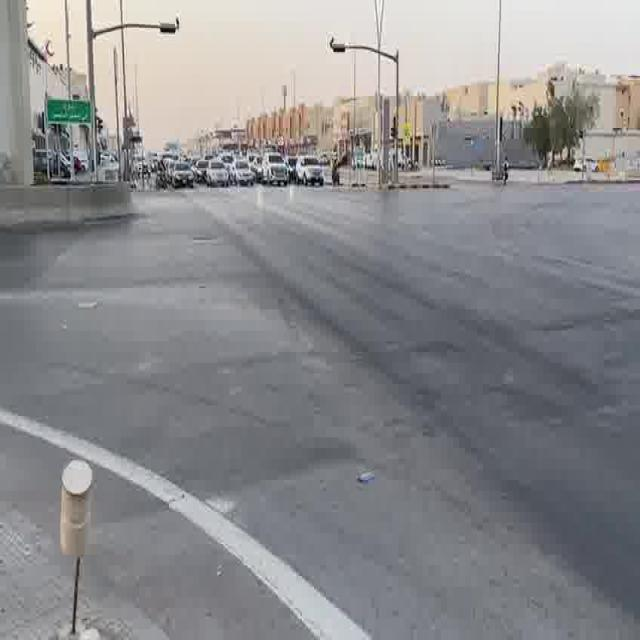bus: (252, 150, 289, 185), (295, 155, 328, 186), (204, 162, 232, 188), (171, 161, 197, 188), (233, 158, 256, 187)
car: (179, 209, 640, 640), (252, 150, 289, 185), (295, 155, 328, 186), (204, 162, 232, 188), (171, 161, 197, 188), (233, 158, 256, 187)
lanes: (179, 209, 640, 640), (226, 209, 639, 634)
lanes2: (226, 209, 639, 634), (260, 205, 640, 474)
lanes3: (260, 205, 640, 474), (286, 204, 640, 403)
lanes4: (286, 204, 640, 403), (321, 210, 640, 361)
lanes5: (321, 210, 640, 361)
